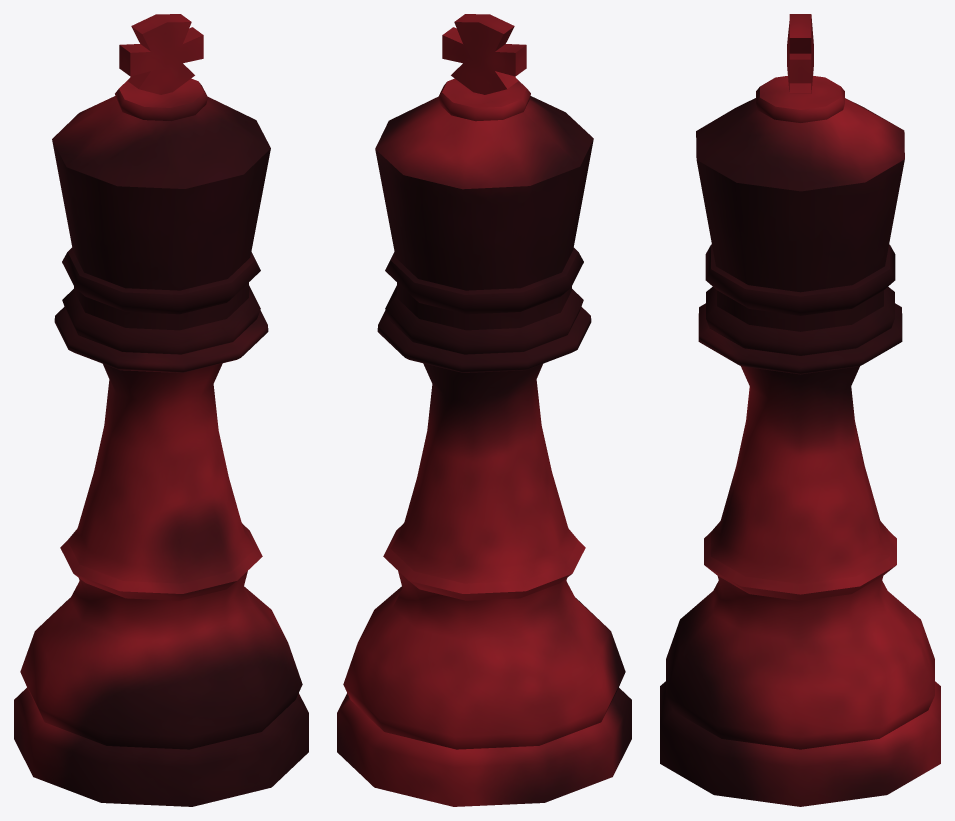
File: item-5-3.glb
3 views of the same model, side by side, from view 1: azimuth 30°, elevation 25°; view 2: azimuth 150°, elevation 25°; view 3: azimuth 270°, elevation 25° (orthographic).
Visible parts, largest first — view 1: BlackKing; view 2: BlackKing; view 3: BlackKing.
Part boxes in pixels (x1=…): BlackKing: x1=14, y1=14, x2=308, y2=806; BlackKing: x1=337, y1=14, x2=631, y2=806; BlackKing: x1=660, y1=14, x2=940, y2=806.
Bounding box in the file's own units: 0.0886 × 0.2399 × 0.0843.
Materials: 1 (1 with a texture image).
